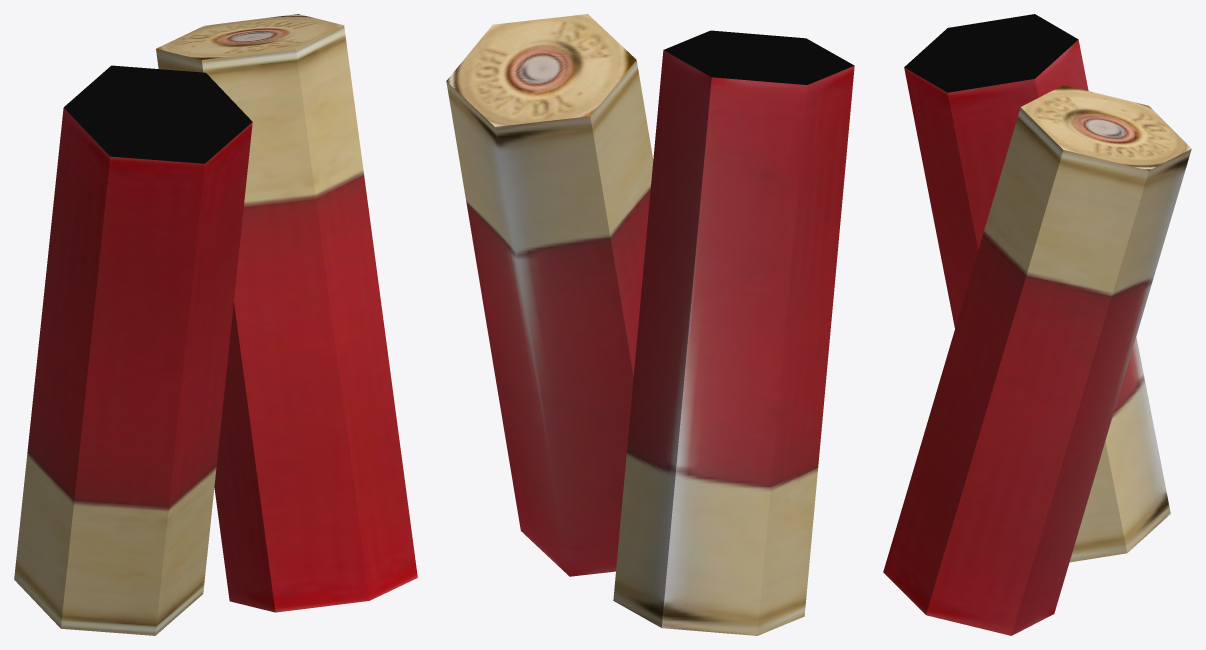
The model's file is Shell.glb.
3 renders of one model, left to right at view 1: azimuth 30°, elevation 25°; view 2: azimuth 150°, elevation 25°; view 3: azimuth 270°, elevation 25°, orthographic. The views are drawn at different scales.
Visible parts, largest first — view 1: Cylinder; view 2: Cylinder; view 3: Cylinder.
Part boxes in pixels (x1,y1,x2,y2): Cylinder: (14,14,417,635); Cylinder: (446,14,854,635); Cylinder: (883,14,1191,635).
Bounding box in the file's own units: 2.7 × 4.73 × 2.61.
1 material, 1 textured.
